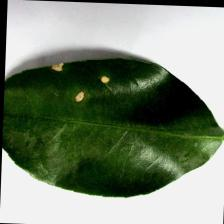canker: (37, 40, 123, 113)
